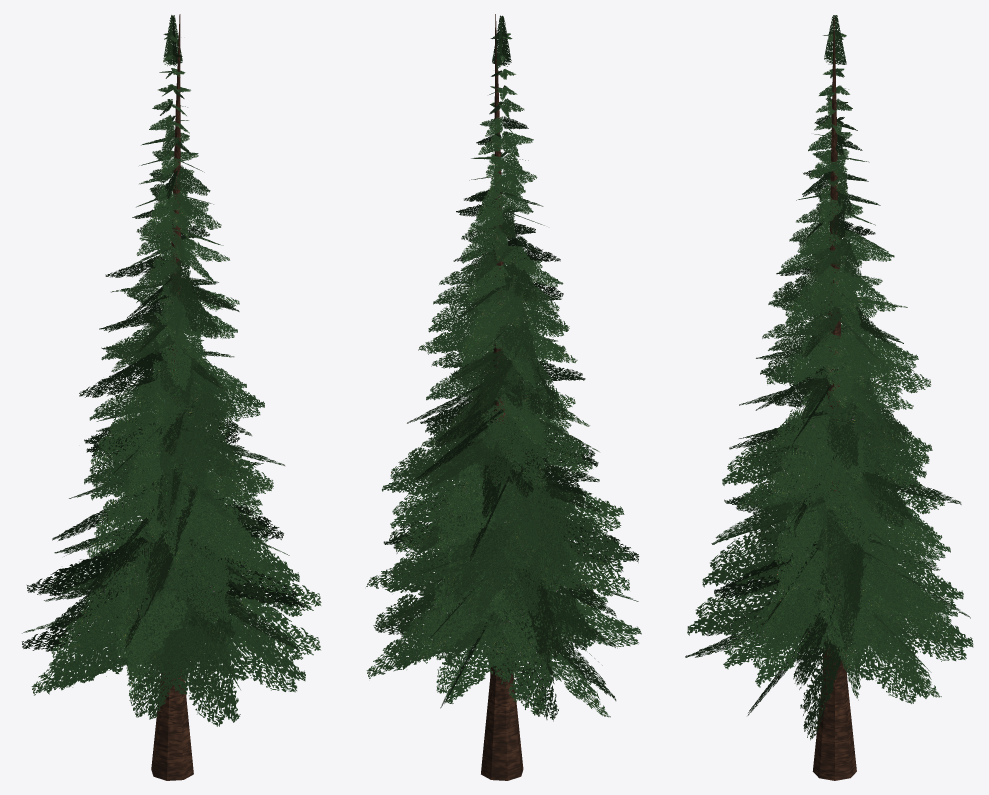
Rendered from SM_spruce_03.fbx.
3 views of the same model, side by side, from view 1: azimuth 30°, elevation 25°; view 2: azimuth 150°, elevation 25°; view 3: azimuth 270°, elevation 25° (orthographic).
Visible parts, largest first — view 1: SM_spruce_03; view 2: SM_spruce_03; view 3: SM_spruce_03.
Part boxes in pixels (x1,y1,x2,y2): SM_spruce_03: (22,14,321,780); SM_spruce_03: (366,14,641,780); SM_spruce_03: (685,15,973,780).
Size of the model in its own units: 8.9 by 24 by 8.4.
